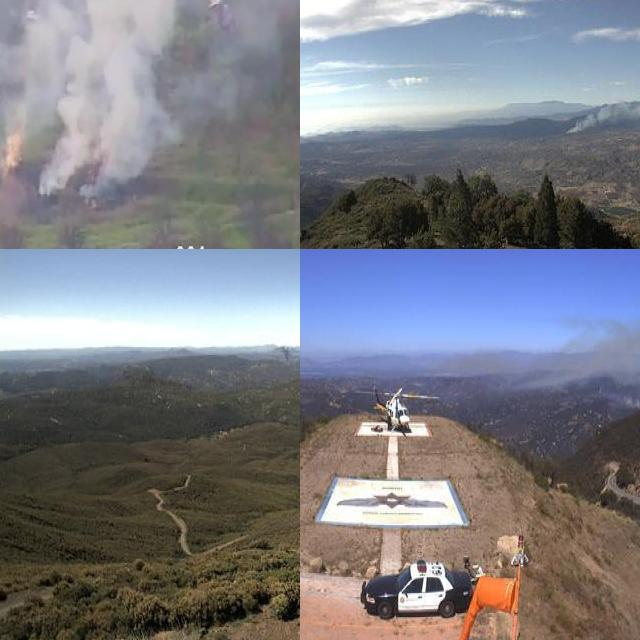fire: (0, 133, 24, 182)
smoke: (0, 0, 300, 199), (527, 310, 640, 408), (563, 89, 640, 136), (274, 338, 296, 367)
